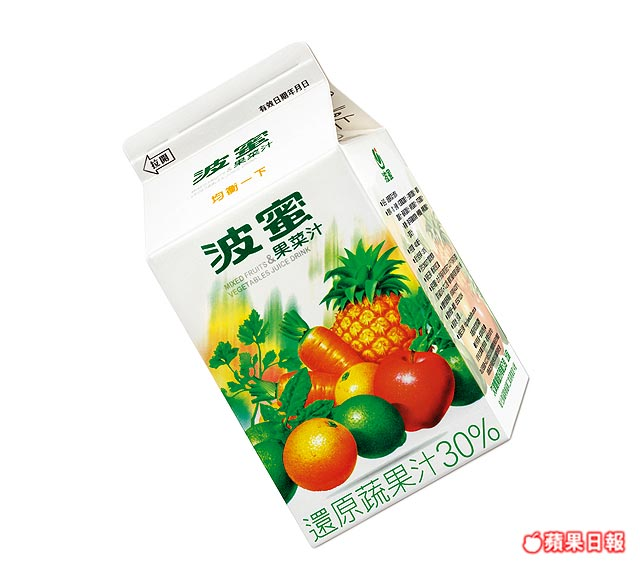vegetables juice: (107, 33, 502, 556)
